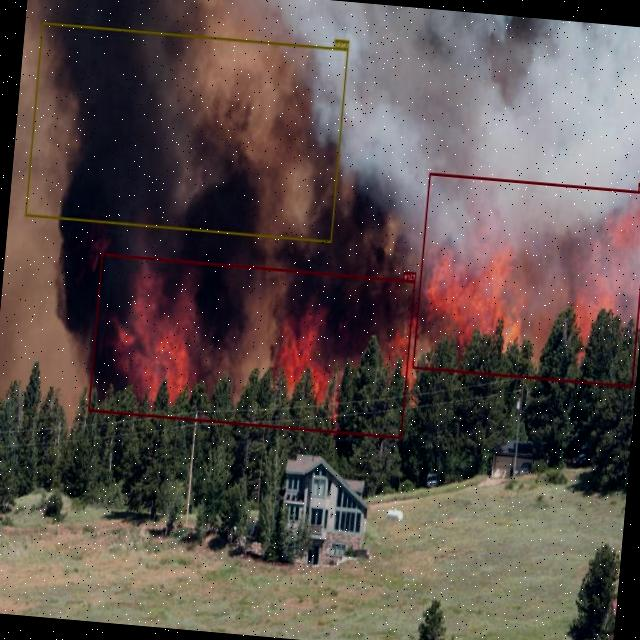fire: (88, 252, 416, 438), (412, 172, 640, 387)
smoke: (25, 21, 349, 242)
